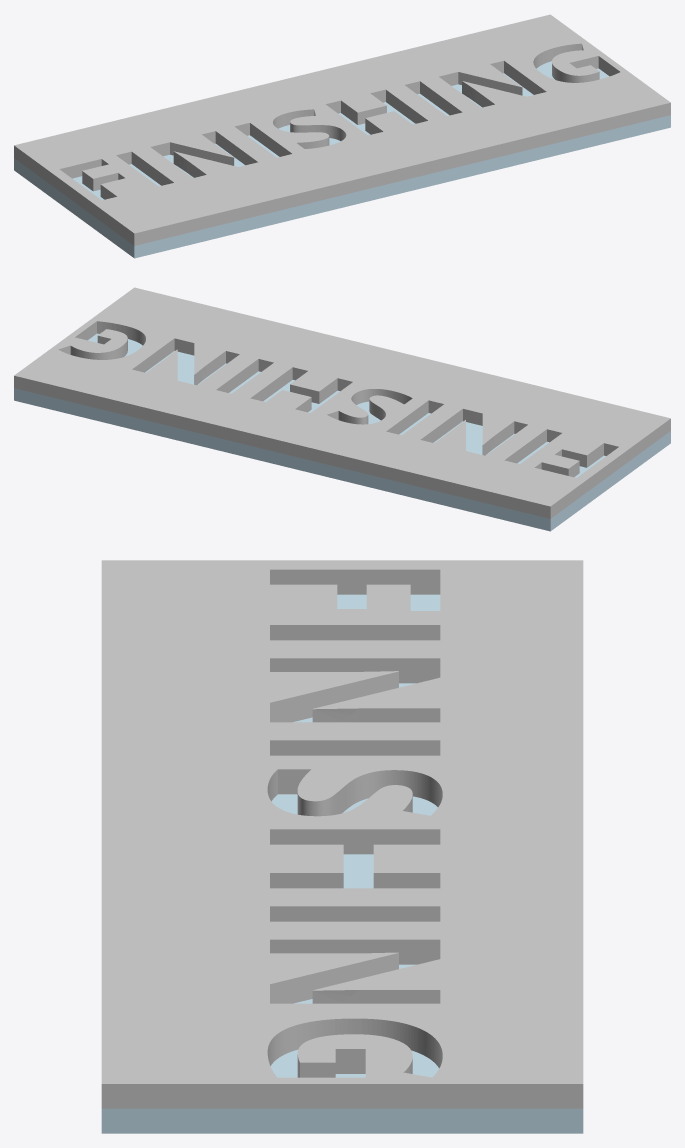
Rendered from Finished.fbx.
3 views of the same model, one above another, from view 1: azimuth 30°, elevation 25°; view 2: azimuth 150°, elevation 25°; view 3: azimuth 270°, elevation 25° (orthographic). The views are drawn at different scales.
Visible parts, largest first — view 1: imagetostl_mesh0, imagetostl_mesh1; view 2: imagetostl_mesh0, imagetostl_mesh1; view 3: imagetostl_mesh0, imagetostl_mesh1.
Boxes of the visible parts, box(x1,y1,x2,y2) form: imagetostl_mesh0: box(14, 14, 670, 245); imagetostl_mesh1: box(14, 61, 670, 258); imagetostl_mesh0: box(14, 287, 670, 518); imagetostl_mesh1: box(14, 333, 670, 531); imagetostl_mesh0: box(101, 560, 583, 1108); imagetostl_mesh1: box(101, 594, 583, 1133).
Size of the model in its own units: 9000 by 400 by 3500.
